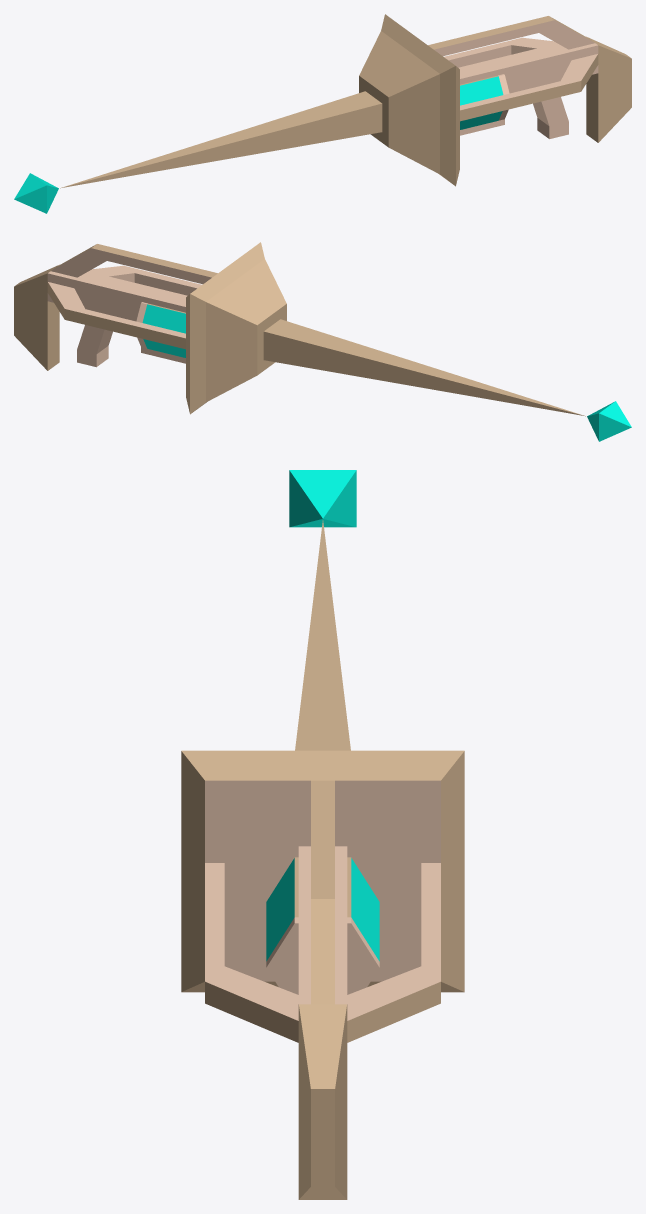
File: TeslaRifle.fbx
3 views of the same model, one above another, from view 1: azimuth 30°, elevation 25°; view 2: azimuth 150°, elevation 25°; view 3: azimuth 270°, elevation 25° (orthographic). The views are drawn at different scales.
Visible parts, largest first — view 1: TeslaRifle; view 2: TeslaRifle; view 3: TeslaRifle.
Part boxes in pixels (left/top/right/bottom): TeslaRifle: left=14, top=14, right=631, bottom=213; TeslaRifle: left=14, top=242, right=631, bottom=441; TeslaRifle: left=181, top=470, right=464, bottom=1199.
Bounding box in the file's own units: 1 × 0.2194 × 0.2002.
